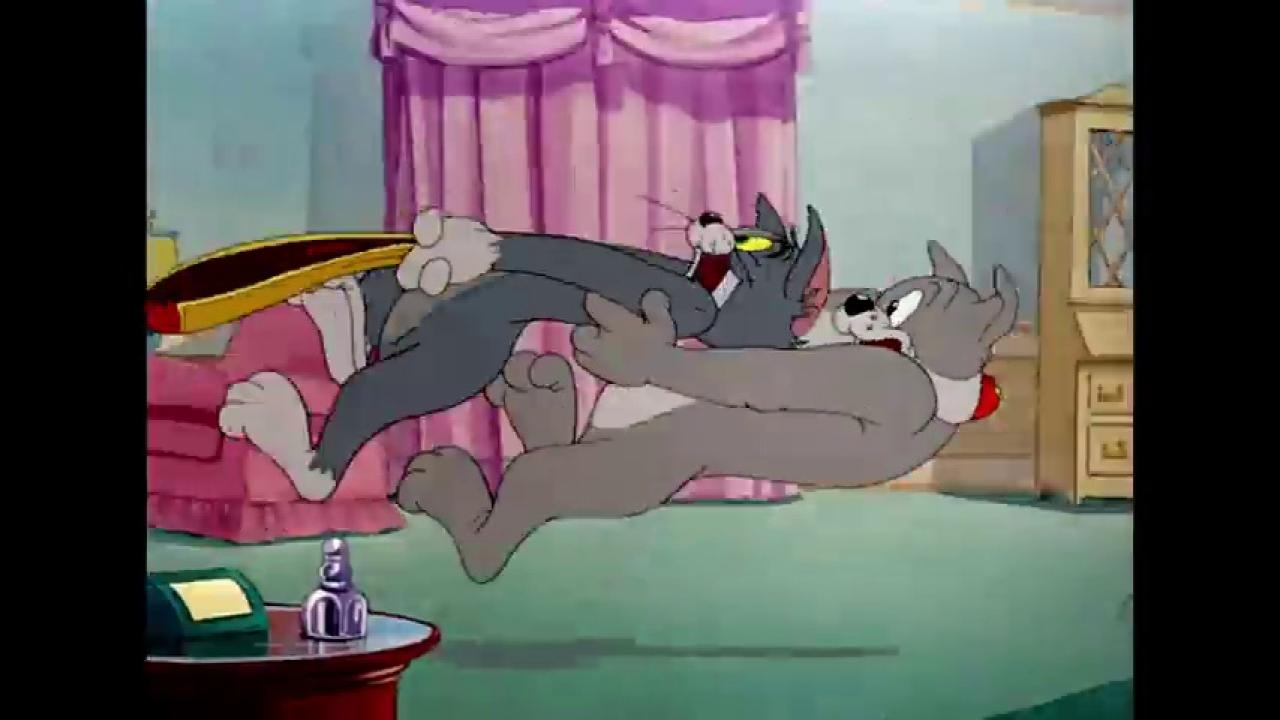Tom: (217, 190, 836, 507)
